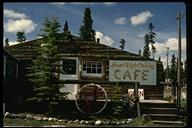cloud: (2, 6, 36, 29)
house: (5, 30, 166, 123)
sky: (99, 6, 148, 28)
tree: (29, 14, 71, 121), (77, 6, 100, 42)
